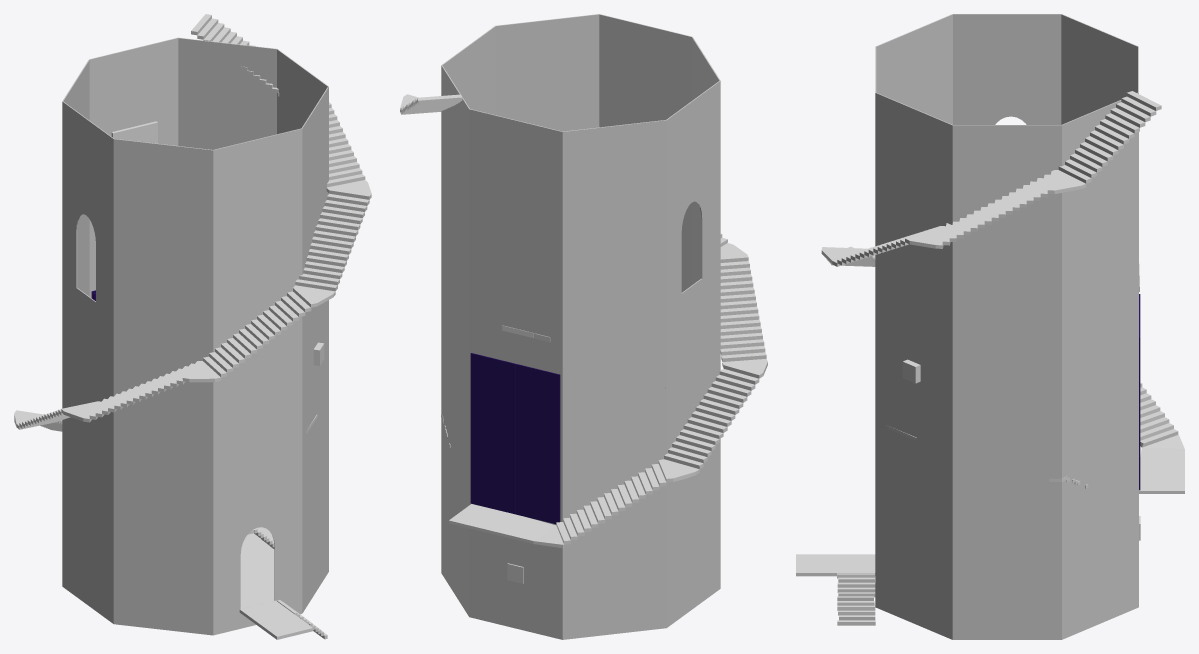
File: BigDoorLevel.fbx
3 views of the same model, side by side, from view 1: azimuth 30°, elevation 25°; view 2: azimuth 150°, elevation 25°; view 3: azimuth 270°, elevation 25° (orthographic). The views are drawn at different scales.
Visible parts, largest first — view 1: Shell.008, Cube.807, Cylinder.231, Cube.802; view 2: Shell.008, Cube.807, DoorRight.001, DooLeft.001; view 3: Shell.008, Cube.807, Cube.803, Cube.802.
Boxes of the visible parts, box(x1,y1,x2,y2) form: Shell.008: box(62, 37, 328, 635); Cube.807: box(14, 14, 371, 431); Cylinder.231: box(240, 527, 274, 608); Cube.802: box(239, 600, 313, 639); Shell.008: box(441, 14, 720, 639); Cube.807: box(400, 94, 767, 548); DoorRight.001: box(470, 353, 515, 514); DooLeft.001: box(515, 364, 560, 524); Shell.008: box(875, 14, 1138, 639); Cube.807: box(821, 91, 1184, 493); Cube.803: box(837, 573, 875, 625); Cube.802: box(796, 554, 875, 576).
Bounding box in the file's own units: 4006 × 6449 × 4239.
